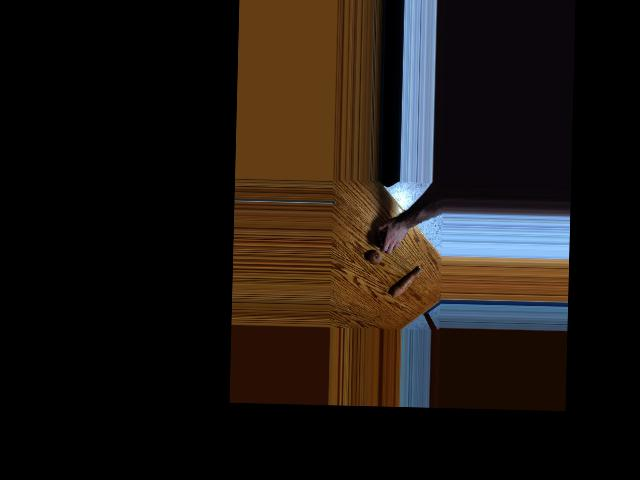onion: (375, 232, 386, 247)
